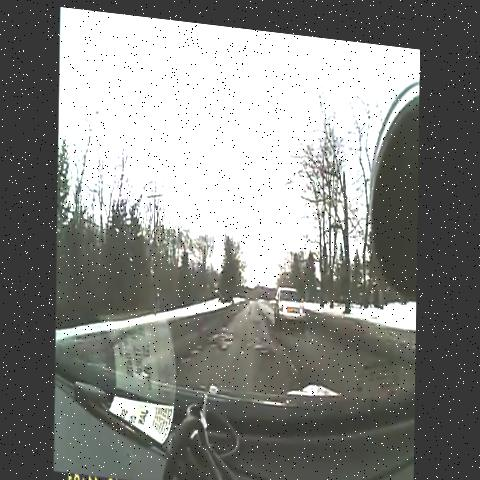pothole: (201, 306, 240, 357), (250, 323, 279, 361), (245, 294, 260, 318)
